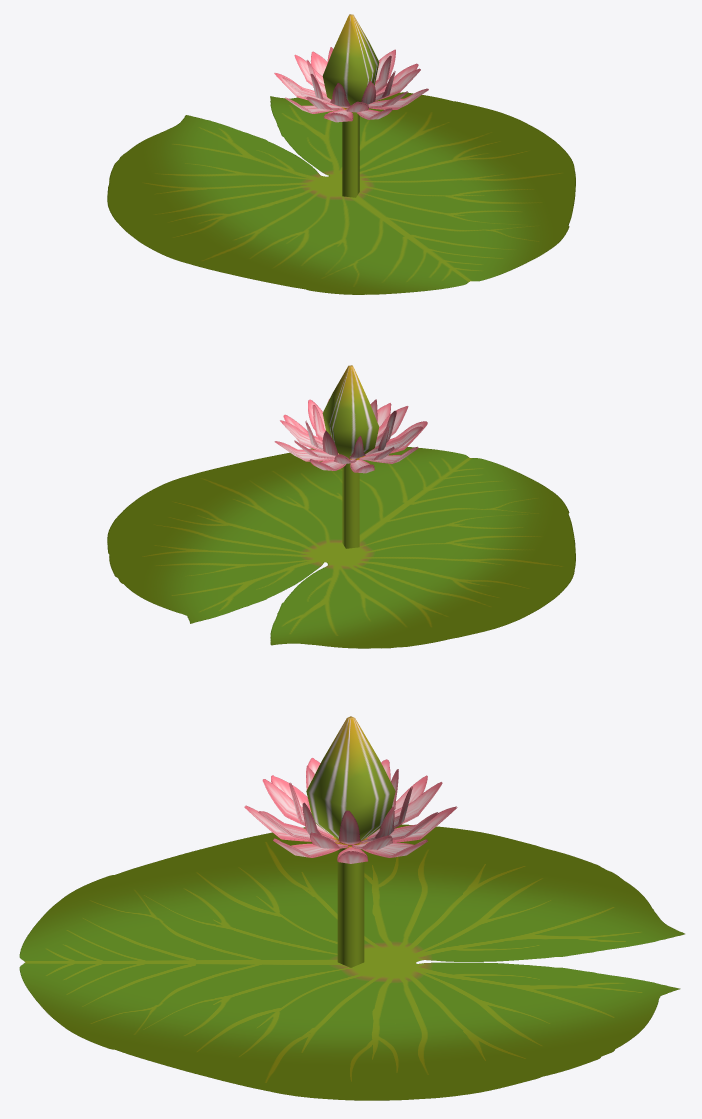
File: Water_Lily.fbx
The picture shows the model from 3 angles, top to bottom: view 1: azimuth 30°, elevation 25°; view 2: azimuth 150°, elevation 25°; view 3: azimuth 270°, elevation 25°; orthographic projection. The views are drawn at different scales.
Parts seen in each view (by area): view 1: Lief.001, FlowerOpen.001, FlowerClosed.001, Stem.001; view 2: Lief.001, FlowerOpen.001, FlowerClosed.001, Stem.001; view 3: Lief.001, FlowerOpen.001, FlowerClosed.001, Stem.001.
Part boxes in pixels (<box>): Lief.001: <box>107,92,575,294</box>; FlowerOpen.001: <box>274,47,428,122</box>; FlowerClosed.001: <box>322,14,379,105</box>; Stem.001: <box>342,112,359,197</box>; Lief.001: <box>107,447,575,648</box>; FlowerOpen.001: <box>274,399,427,473</box>; FlowerClosed.001: <box>322,365,379,458</box>; Stem.001: <box>342,463,359,548</box>; Lief.001: <box>19,824,684,1100</box>; FlowerOpen.001: <box>244,758,457,863</box>; FlowerClosed.001: <box>306,716,395,845</box>; Stem.001: <box>337,848,364,967</box>.
Size of the model in its own units: 50 by 30 by 50.
1 material, 1 textured.
